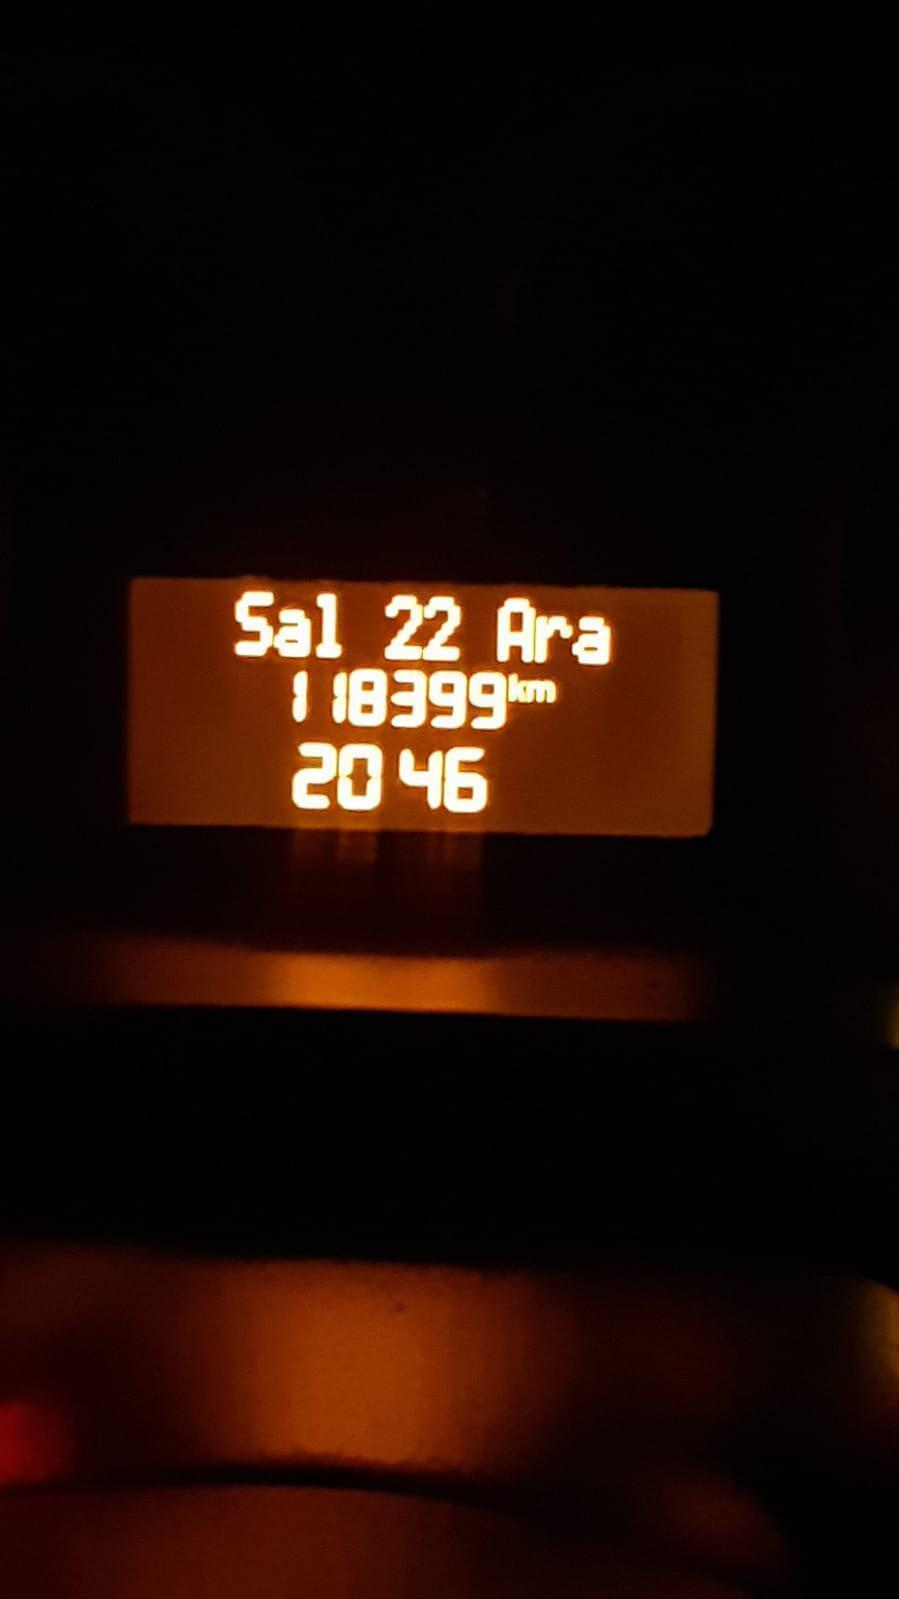0: (337, 740, 383, 814)
1: (285, 666, 311, 729), (330, 662, 347, 729)
2: (290, 737, 337, 819), (381, 591, 422, 663), (426, 591, 467, 662)
3: (392, 667, 425, 728)
4: (396, 743, 443, 813)
6: (446, 743, 487, 815)
8: (349, 663, 390, 729)
9: (429, 666, 467, 731), (469, 668, 505, 733)
X: (231, 588, 273, 661), (494, 593, 533, 663), (316, 588, 346, 661), (574, 614, 614, 666), (276, 604, 312, 659), (537, 616, 570, 663), (528, 677, 559, 704), (507, 671, 528, 703)
odometer: (117, 559, 734, 852)
